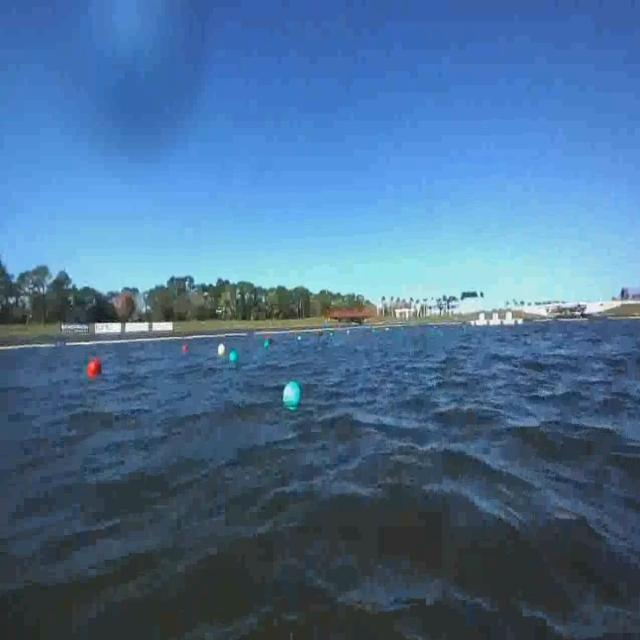green-buoy: (283, 381, 301, 408), (228, 350, 237, 363)
red-buoy: (88, 358, 105, 380)
yellow-buoy: (218, 344, 226, 357)
